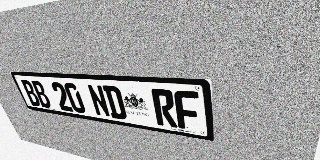0: (63, 82, 87, 114)
2: (50, 82, 73, 112)
B: (30, 80, 53, 109), (20, 80, 42, 107)
D: (102, 85, 128, 120)
F: (173, 90, 201, 132)
N: (86, 84, 111, 118)
R: (151, 88, 178, 128)
